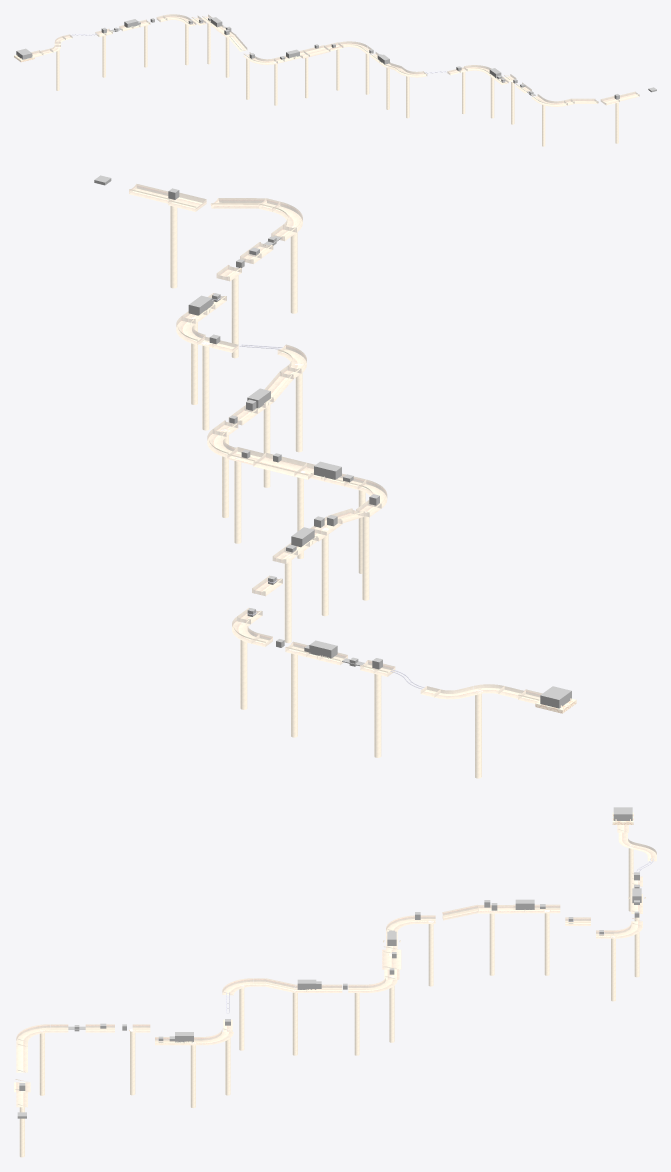
The model's file is level.gltf.
3 renders of one model, top to bottom at view 1: azimuth 30°, elevation 25°; view 2: azimuth 150°, elevation 25°; view 3: azimuth 270°, elevation 25°, orthographic. The views are drawn at different scales.
Bounding box in the file's own units: 640 × 92.5 × 545.
Materials: 7 (7 with a texture image).
